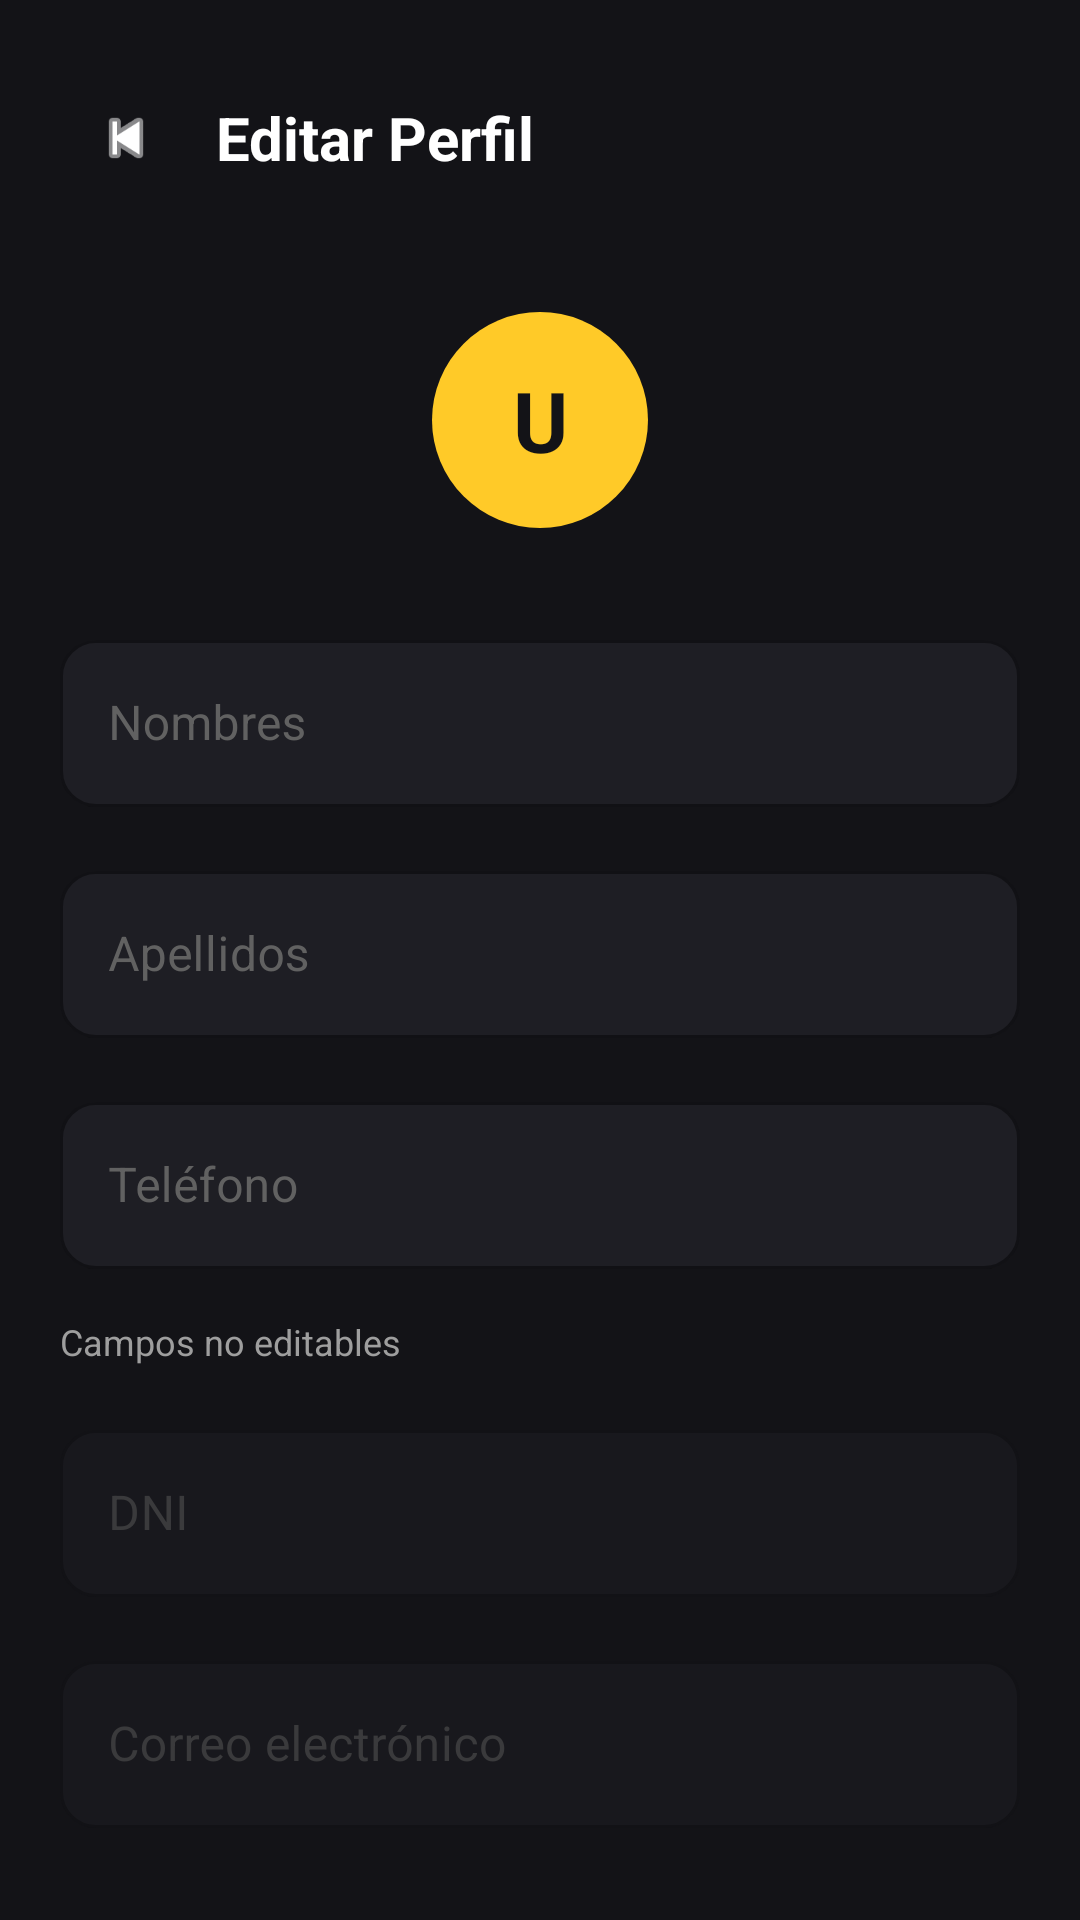

Point at icon controls on the screen. Image size 1080×1920, points as (x,y).
Volver atrás: (126,138)
